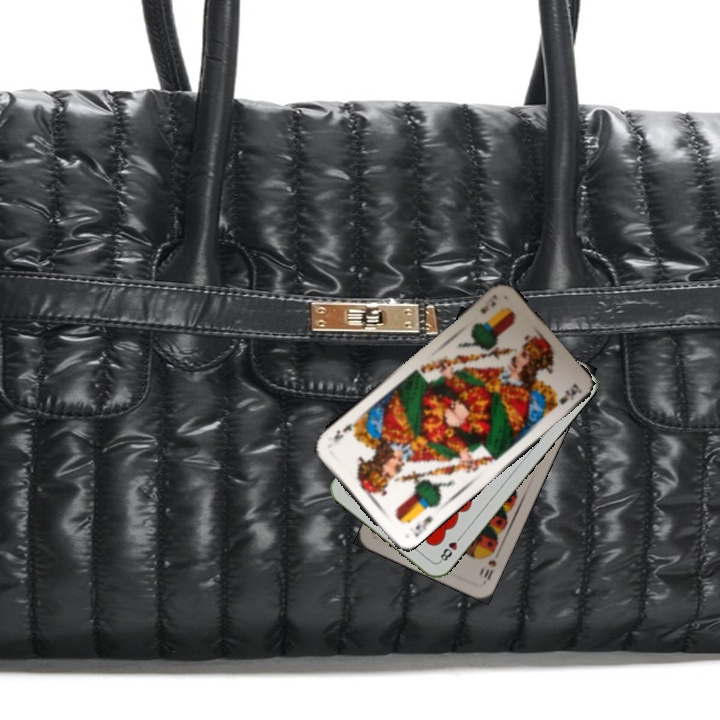EK: (406, 511, 435, 540), (476, 290, 500, 316)
H8: (435, 531, 465, 565)
S10: (479, 545, 499, 586)
